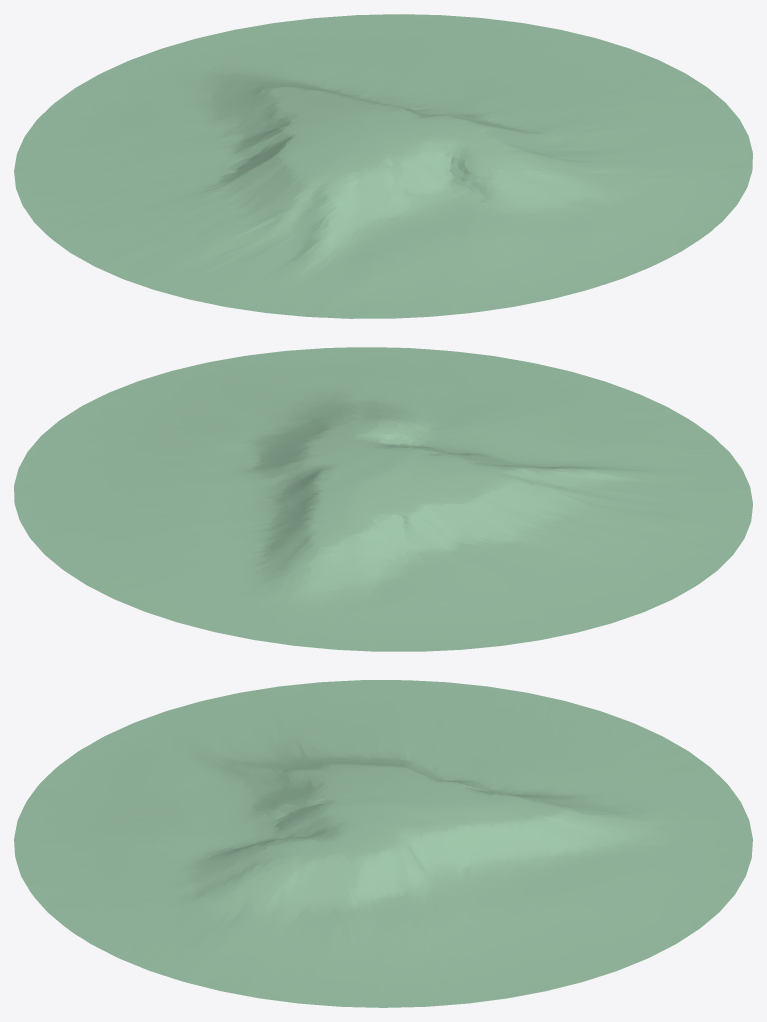
Rendered from island_coral_medium_B.fbx.
3 renders of one model, top to bottom at view 1: azimuth 30°, elevation 25°; view 2: azimuth 150°, elevation 25°; view 3: azimuth 270°, elevation 25°, orthographic. The views are drawn at different scales.
Visible parts, largest first — view 1: island_coral_medium_B; view 2: island_coral_medium_B; view 3: island_coral_medium_B.
Part boxes in pixels (box(x1,y1,x2,y2)): island_coral_medium_B: box(14, 14, 752, 318); island_coral_medium_B: box(14, 347, 752, 651); island_coral_medium_B: box(14, 680, 752, 1007).
Bounding box in the file's own units: 10577 × 531 × 10077.
